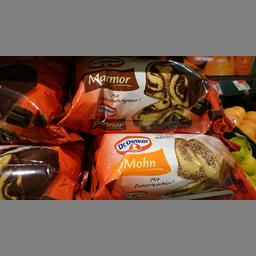cake: (58, 56, 228, 131), (76, 134, 252, 196)
